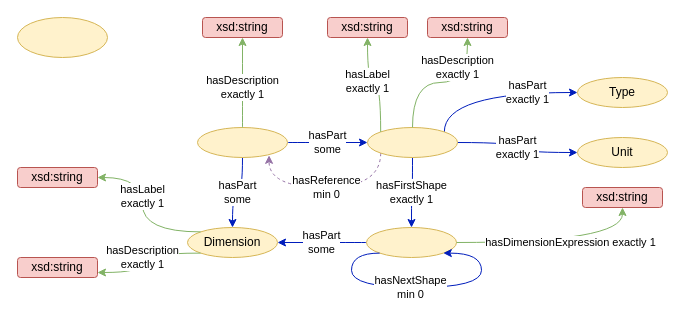
The diagram is 685 pixels wide and 318 high, and some of its shapes have lost their labels. Each missing label, with the centre of its shape:
"DataModel" belongs at point (62, 37).
"Entity" belongs at point (242, 142).
"Property" belongs at point (412, 142).
"Shape" belongs at point (411, 242).
